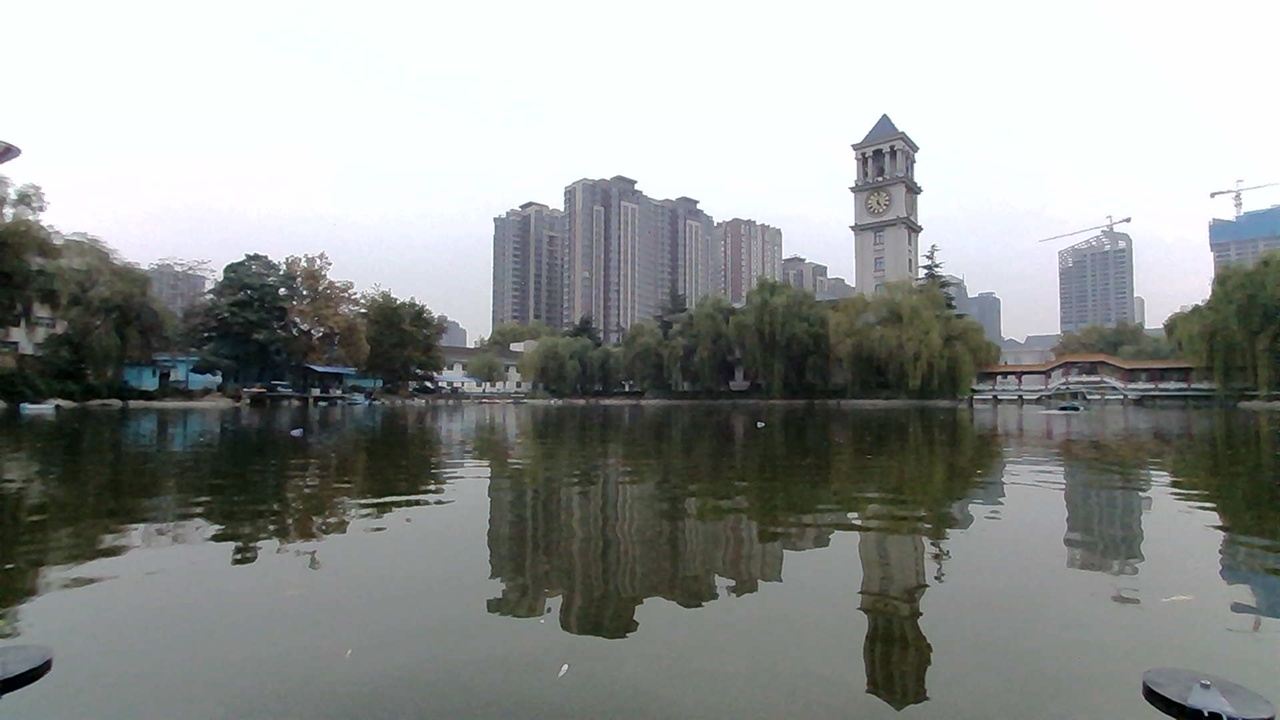bottle: (277, 416, 319, 446), (743, 408, 780, 431)
